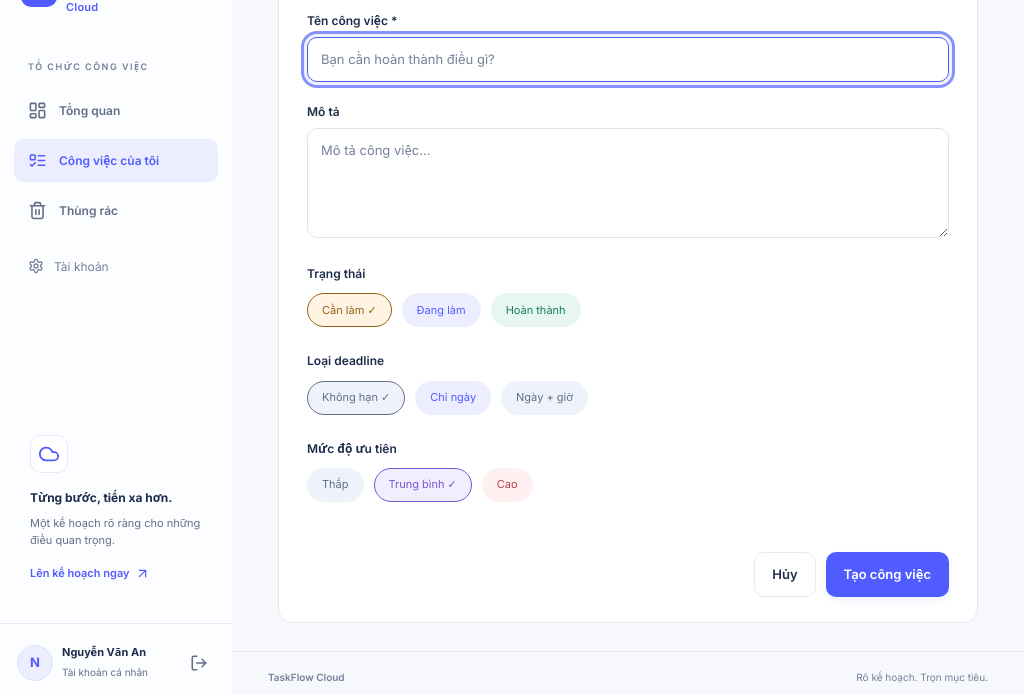
Test case: frontend application flows (mock HTTP, no live Atlas writes) › validates the create form and sends trimmed data only after a valid submit
(page scrolled)
Click the button "Tạo công việc": (887, 574) 826,552 -> 949,596
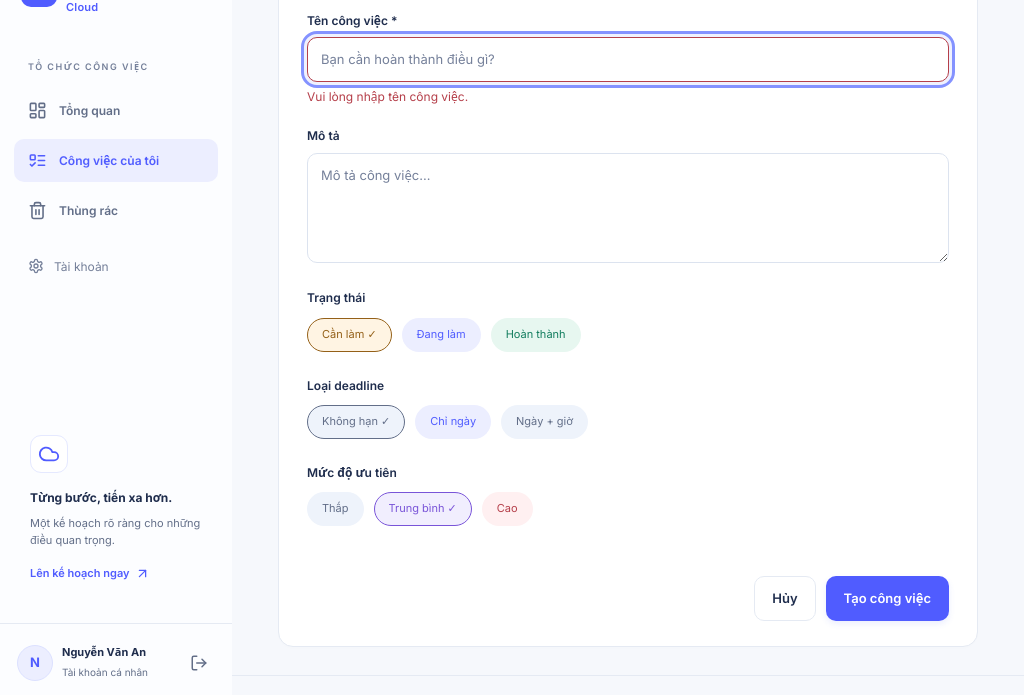
Expected: the text "Vui lòng nhập tên công việc." is shown, 307,89 -> 468,104
In the field labelled "Tên công việc *": (628, 60) 307,37 -> 949,82, type "  Công việc thật  "
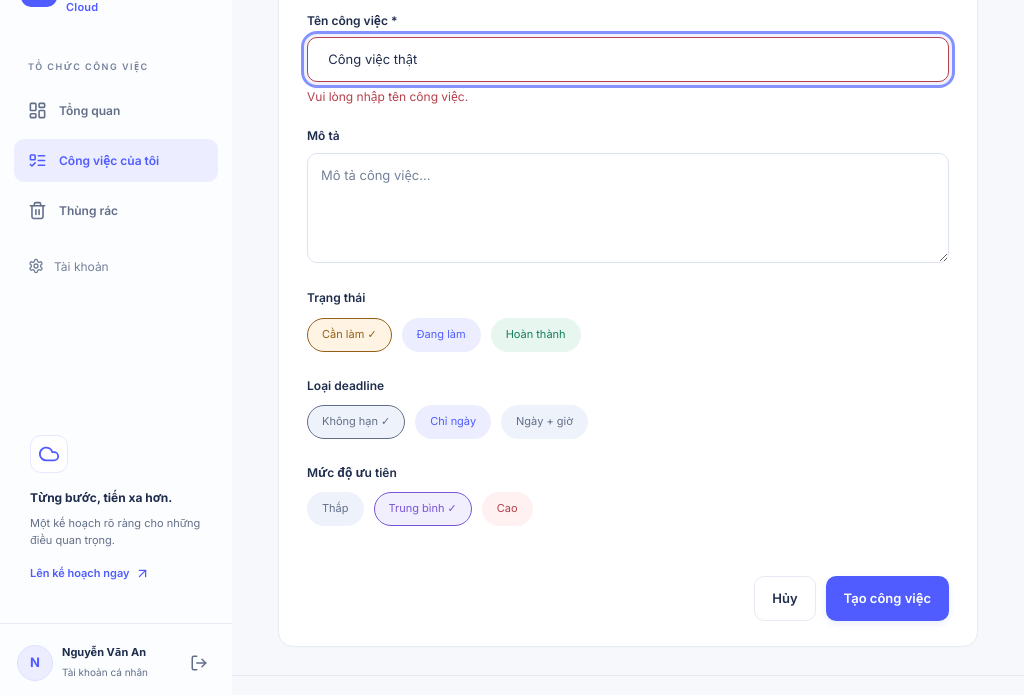
Click the button "Tạo công việc": (887, 598) 826,576 -> 949,621
(page scrolled)
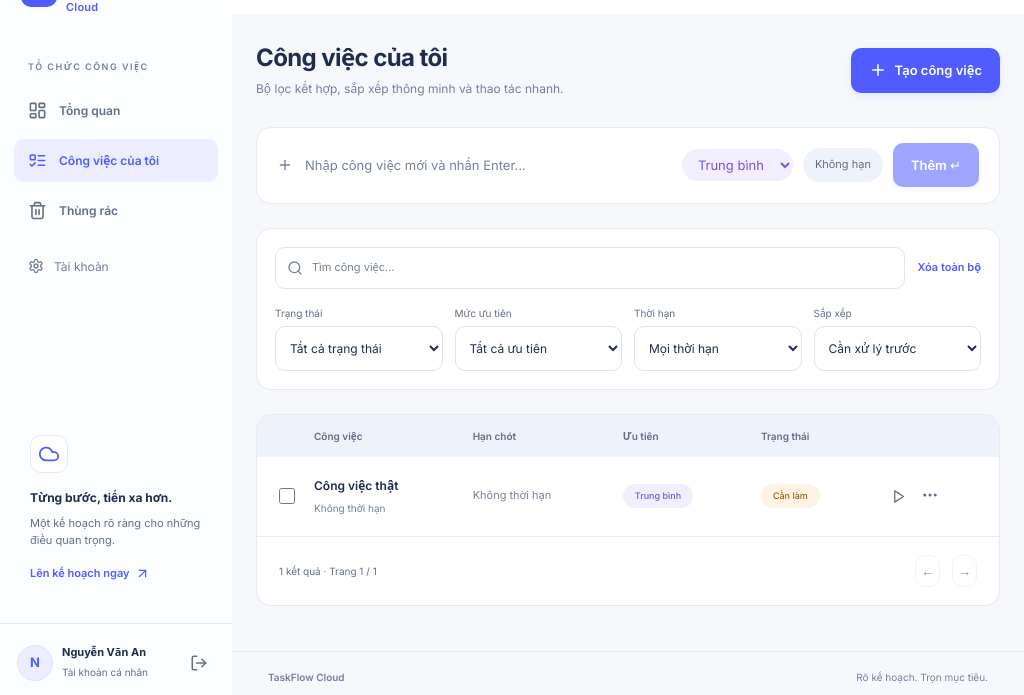
Expected: the link "Công việc thật" is shown, 314,478 -> 398,493
